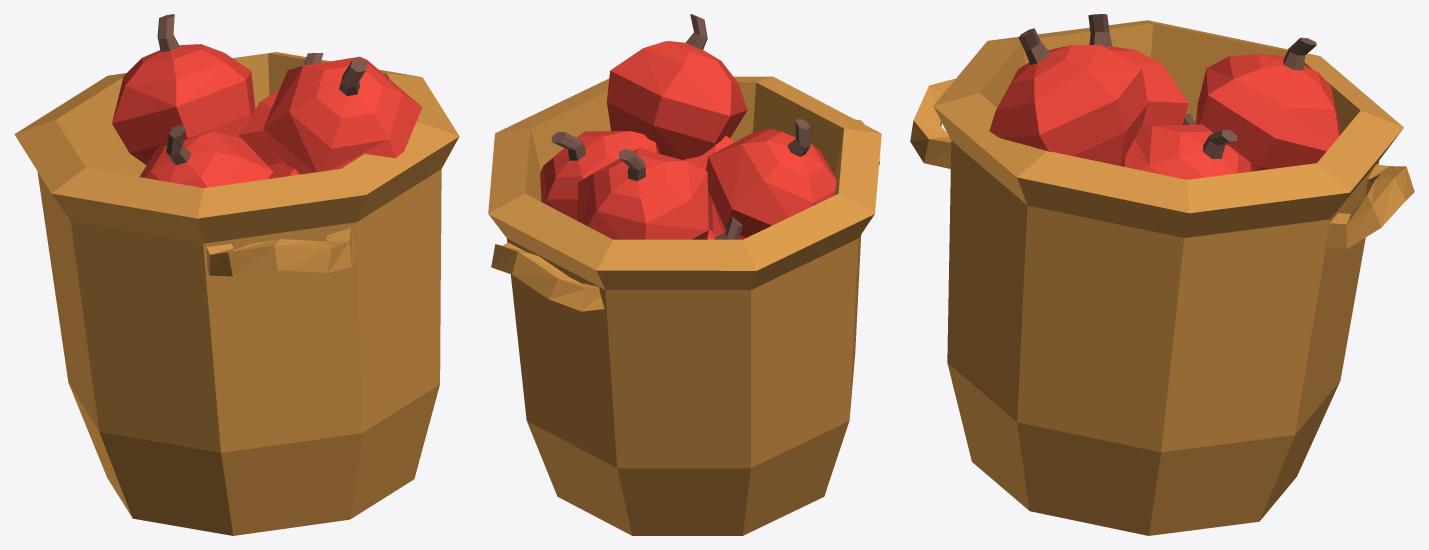
The model's file is basket.obj.
The picture shows the model from 3 angles, left to right: view 1: azimuth 30°, elevation 25°; view 2: azimuth 150°, elevation 25°; view 3: azimuth 270°, elevation 25°; orthographic projection. The views are drawn at different scales.
Parts seen in each view (by area): view 1: group483531598; view 2: group483531598; view 3: group483531598.
Part boxes in pixels (x1=…): group483531598: x1=14, y1=14, x2=459, y2=535; group483531598: x1=488, y1=14, x2=881, y2=535; group483531598: x1=910, y1=14, x2=1414, y2=535.
Bounding box in the file's own units: 0.4807 × 0.5361 × 0.513.
